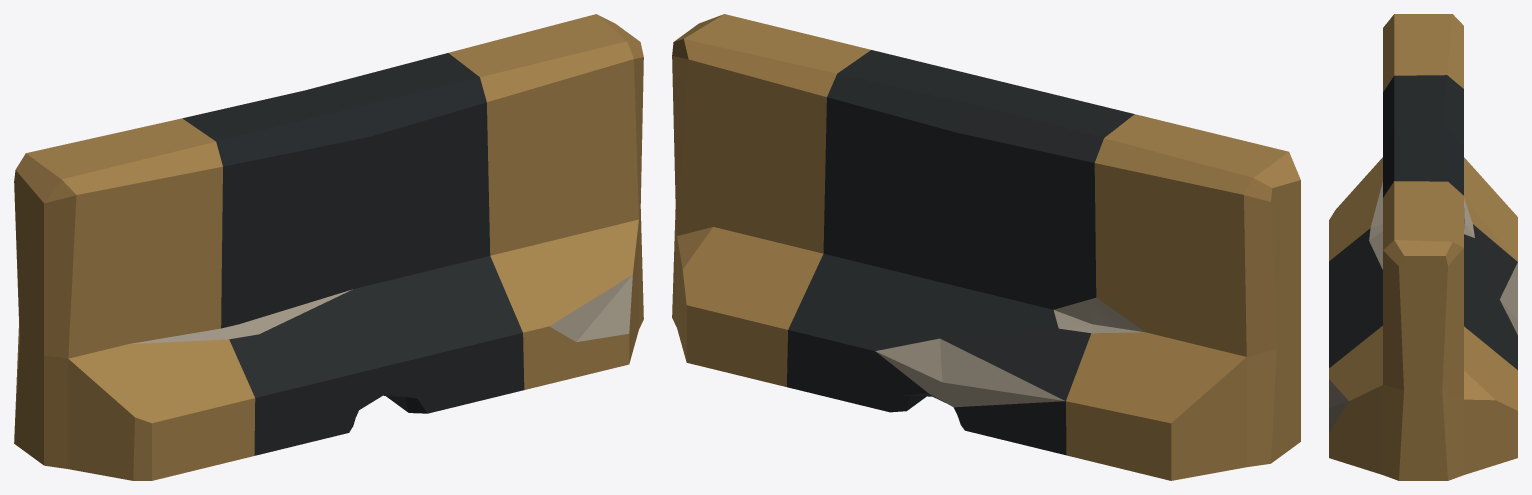
File: SM_Prop_Barrier_06.glb
The picture shows the model from 3 angles, left to right: view 1: azimuth 30°, elevation 25°; view 2: azimuth 150°, elevation 25°; view 3: azimuth 270°, elevation 25°; orthographic projection. The views are drawn at different scales.
Parts seen in each view (by area): view 1: SM_Prop_Barrier_06; view 2: SM_Prop_Barrier_06; view 3: SM_Prop_Barrier_06.
Part boxes in pixels (left/top/right/bottom): SM_Prop_Barrier_06: left=14, top=14, right=643, bottom=480; SM_Prop_Barrier_06: left=672, top=14, right=1300, bottom=480; SM_Prop_Barrier_06: left=1329, top=14, right=1517, bottom=480.
Size of the model in its own units: 2.1 by 0.9544 by 0.7003.
1 material, 1 textured.
